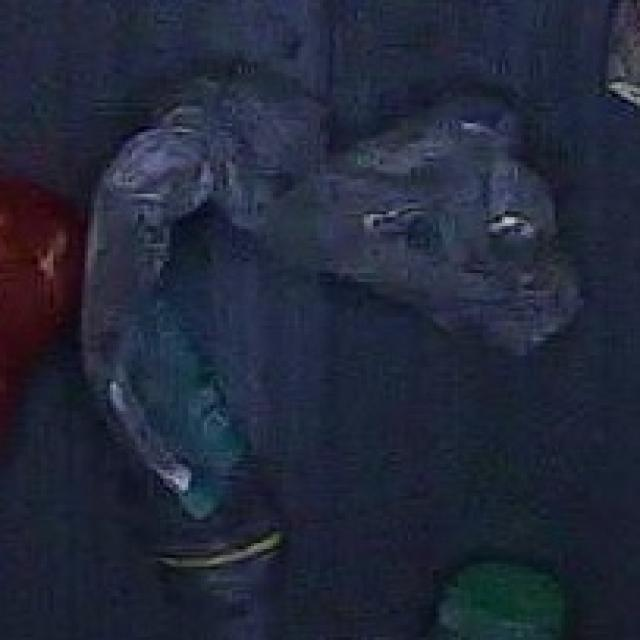litter: (68, 47, 616, 633)
